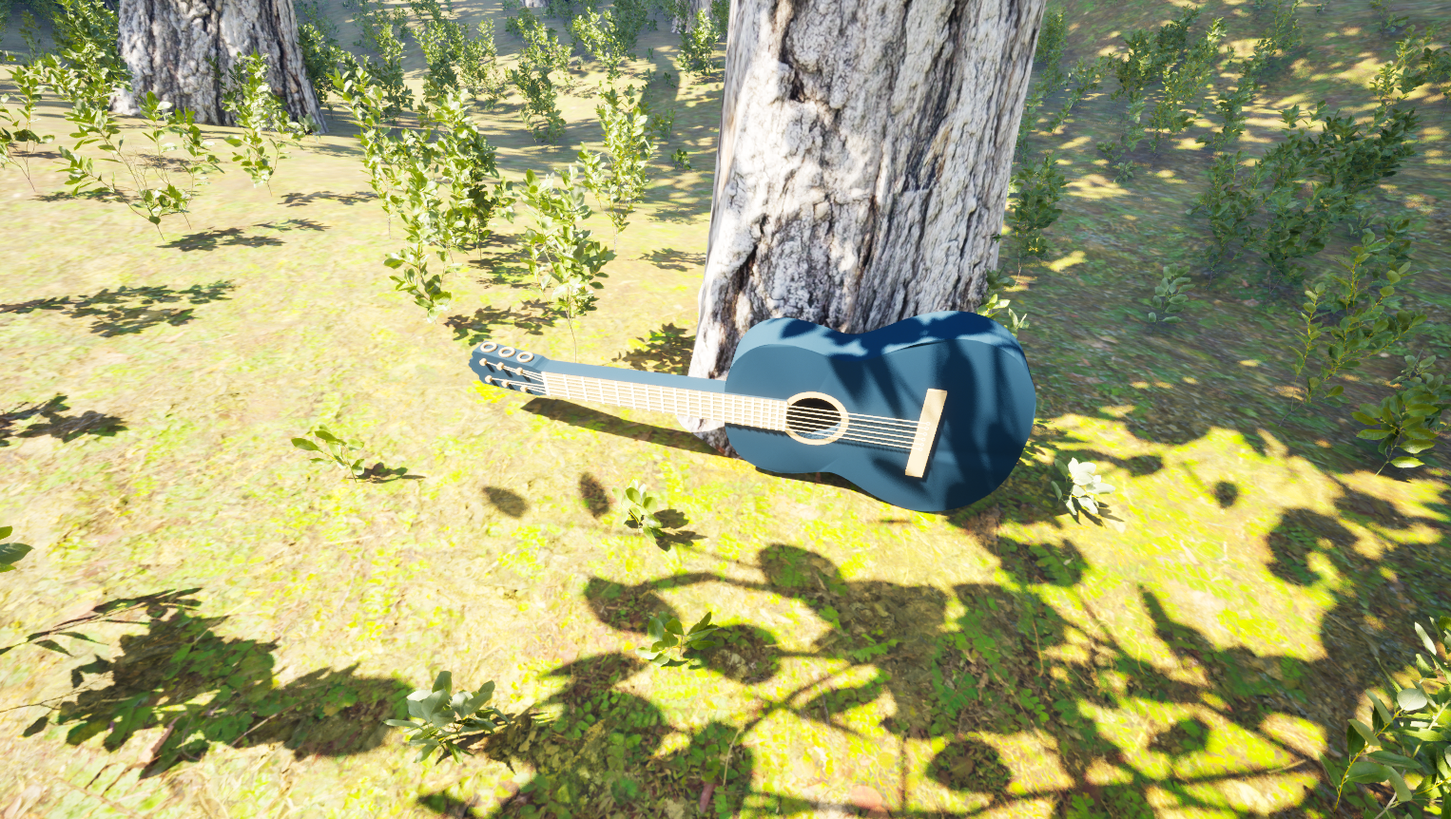Guitar: (430, 261, 1068, 525)
